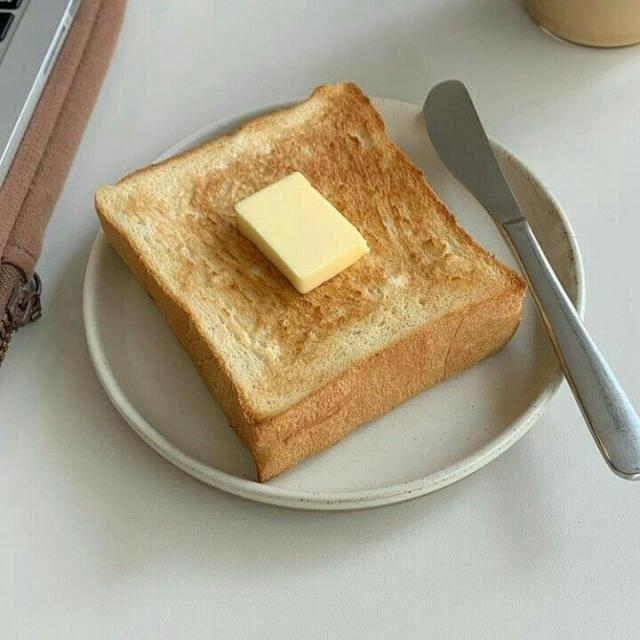toast bread: (96, 84, 525, 481)
